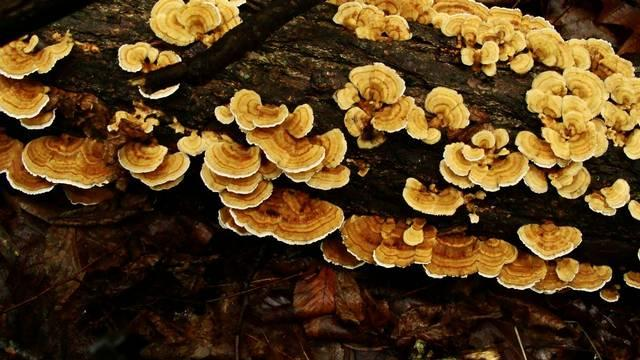Non-edible Mushroom: (1, 0, 637, 304)
